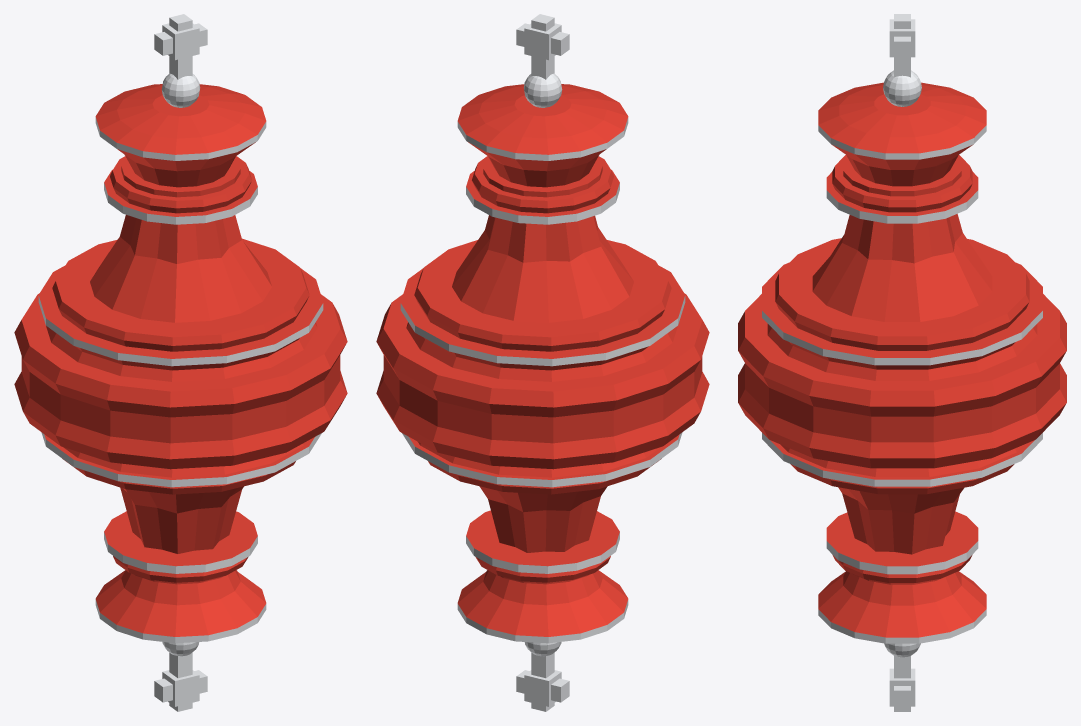
The model's file is king-deco.glb.
3 renders of one model, left to right at view 1: azimuth 30°, elevation 25°; view 2: azimuth 150°, elevation 25°; view 3: azimuth 270°, elevation 25°, orthographic.
Parts seen in each view (by area): view 1: king-deco; view 2: king-deco; view 3: king-deco.
Part boxes in pixels (left/top/right/bottom): king-deco: left=14, top=14, right=347, bottom=711; king-deco: left=376, top=14, right=709, bottom=711; king-deco: left=738, top=14, right=1066, bottom=711.
Size of the model in its own units: 0.4934 by 1.14 by 0.4934.
